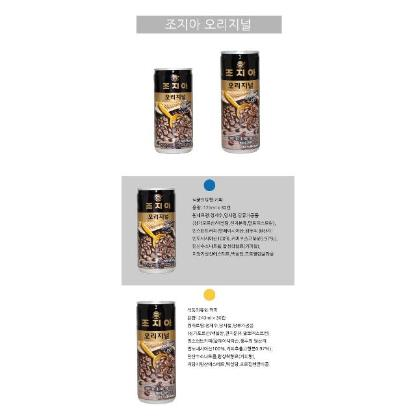Can: (136, 302, 176, 404), (222, 51, 260, 153), (138, 184, 178, 274), (154, 67, 192, 154)
